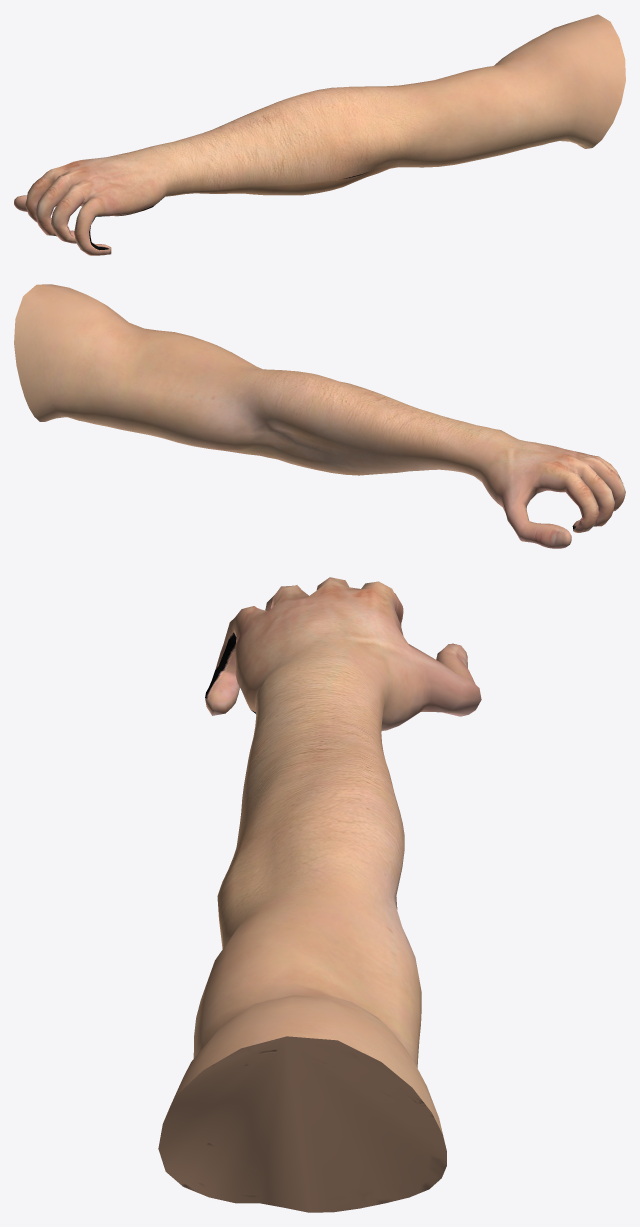
File: armLeft.fbx
The picture shows the model from 3 angles, top to bottom: view 1: azimuth 30°, elevation 25°; view 2: azimuth 150°, elevation 25°; view 3: azimuth 270°, elevation 25°; orthographic projection. The views are drawn at different scales.
Visible parts, largest first — view 1: manArm; view 2: manArm; view 3: manArm.
Boxes of the visible parts, x1,y1,x2,y2 form: manArm: (14, 14, 625, 255); manArm: (14, 284, 625, 548); manArm: (158, 577, 481, 1212).
Size of the model in its own units: 68.31 by 12.37 by 16.99.
Materials: 1 (1 with a texture image).
